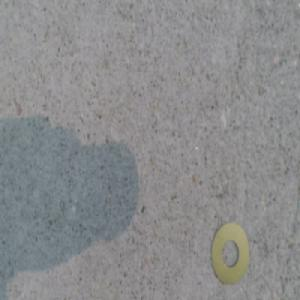Washer: (210, 221, 249, 284)
